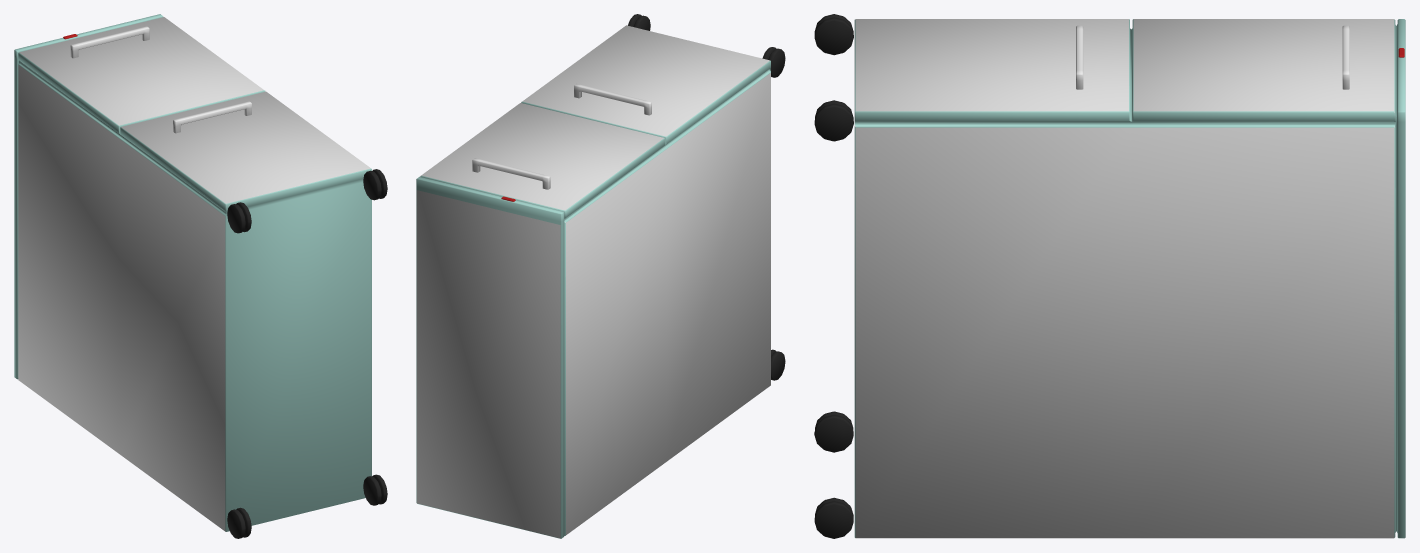
3 renders of one model, left to right at view 1: azimuth 30°, elevation 25°; view 2: azimuth 150°, elevation 25°; view 3: azimuth 270°, elevation 25°, orthographic. The views are drawn at different scales.
Parts seen in each view (by area): view 1: Cube; view 2: Cube; view 3: Cube.
Part boxes in pixels (x1,y1,x2,y2): Cube: (14,14,387,538); Cube: (416,14,785,538); Cube: (814,14,1405,538).
Bounding box in the file's own units: 29.04 × 64.32 × 77.8.
